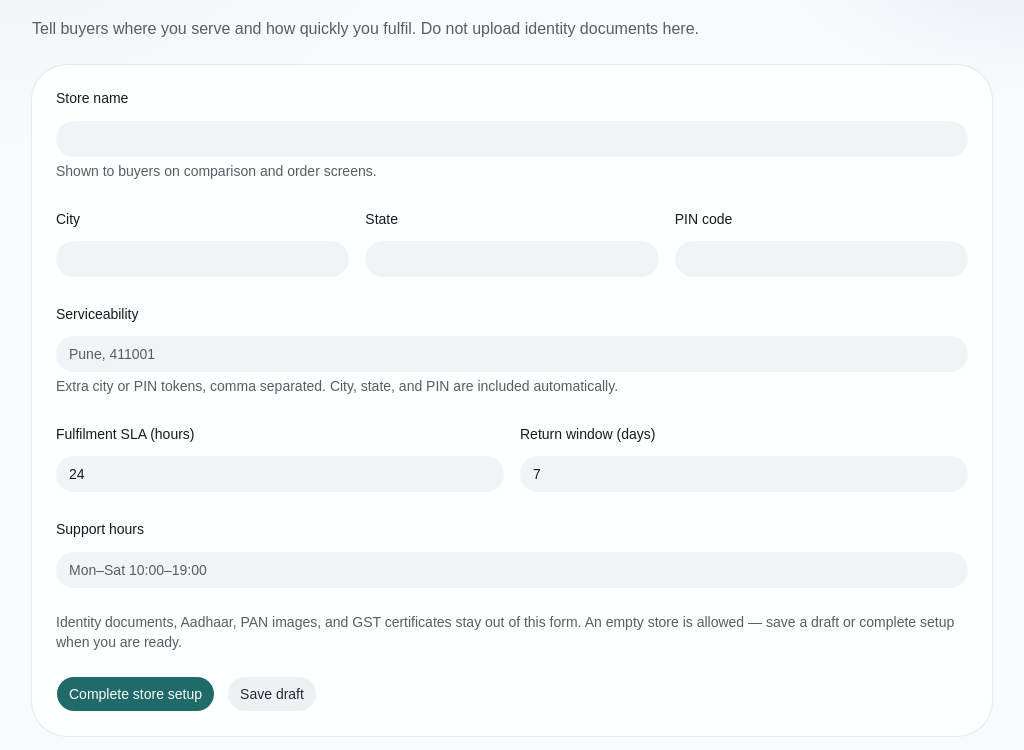
BusinessPage missing store setup › shows a sign-in error when store save is unauthorized
(page scrolled)
Click the button "Save draft". click: click(272, 694)
box: [227, 676, 317, 712]
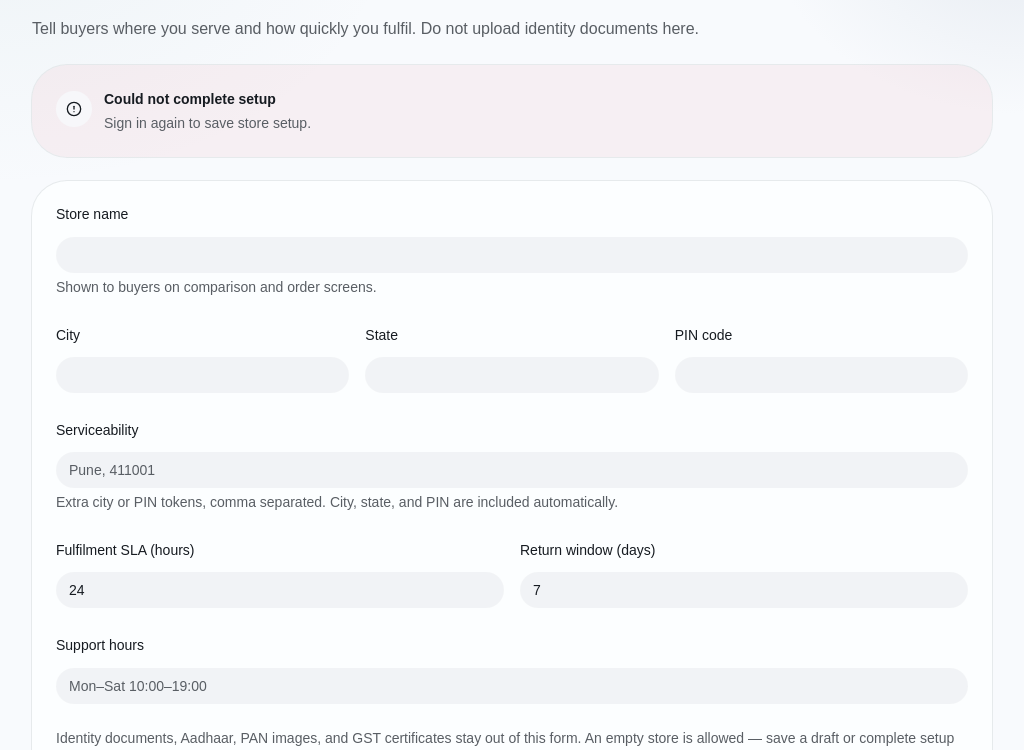
Result: the text "Sign in again to save store setup." is shown at [104, 113, 311, 133]
Result: the text "Could not complete setup" is shown at [104, 91, 276, 107]
